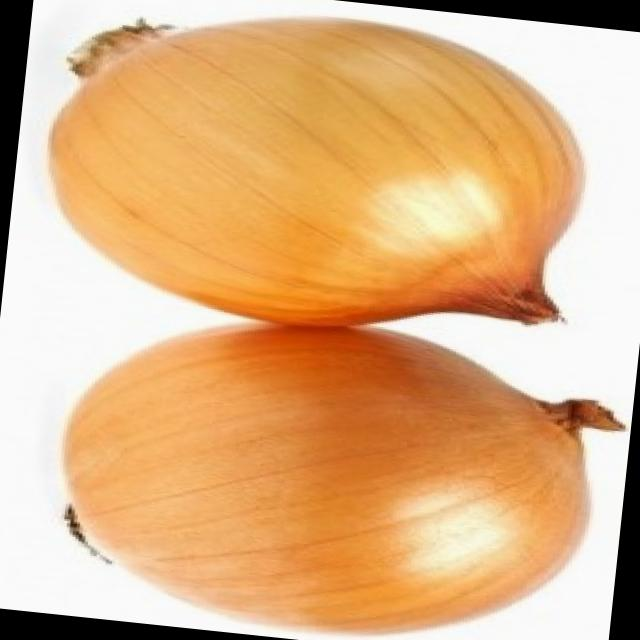onion: (20, 0, 616, 354), (34, 310, 624, 640)
